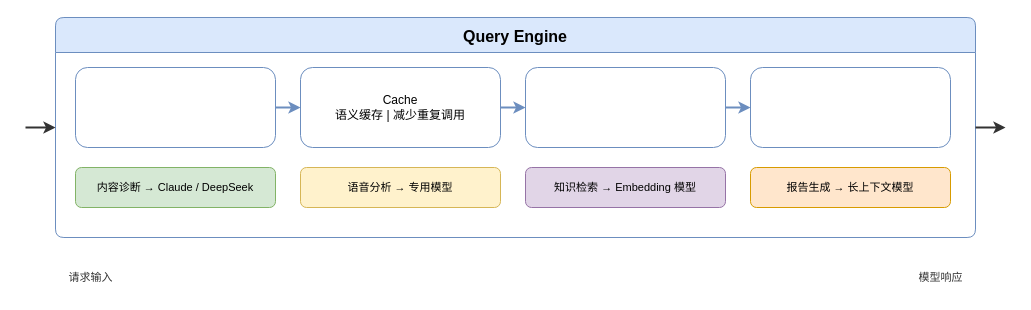
Image size: 1031x310. Some labels were removed from this diagram. The shapes that lost their labels are listed below. From the top down, each one's box as (x1, y1, x2, y2) in pixels, then its label:
(74, 66, 276, 148): Router 模型选择 | 按任务路由
(524, 66, 726, 148): Retry 指数退避 | 3 次重试
(750, 66, 950, 148): Rate Limiter 令牌桶限流 | 并发控制
